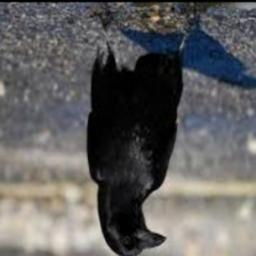Crow: (88, 12, 192, 256)
